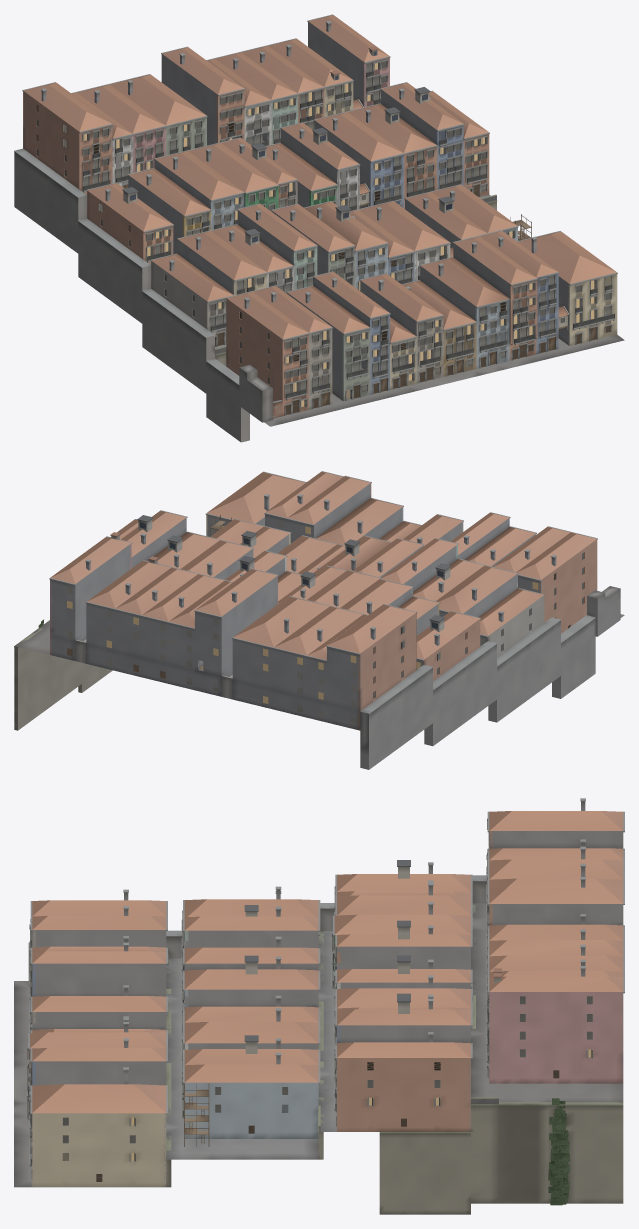
The model's file is stairs_mid.glb.
3 views of the same model, one above another, from view 1: azimuth 30°, elevation 25°; view 2: azimuth 150°, elevation 25°; view 3: azimuth 270°, elevation 25° (orthographic). The views are drawn at different scales.
Parts seen in each view (by area): view 1: stairs_7_1, stairs_4_1, stairs_4_11, stairs_4_8, stairs_7_5, stairs_4_9, stairs_rampart_2, stairs_rampart_4, stairs_rampart_3, stairs_6_1, stairs_6_9, stairs_4_3 (+36 smaller); view 2: stairs_7_1, stairs_7_5, stairs_7_10, stairs_4_1, stairs_7_4, stairs_rampart_4, stairs_rampart_2, stairs_rampart_3, stairs_7_3, stairs_east_8, stairs_7_9, stairs_7_8 (+37 smaller); view 3: stairs_7_10, stairs_4_11, stairs_east_8, stairs_6_12, stairs_5_10, stairs_east_6, stairs_4_4, ground_stairs_5, ground_stairs_7, stairs_5_6, stairs_7_1, stairs_7_5 (+31 smaller).
Boxes of the visible parts, left/top/right/bottom form: stairs_7_1: left=22, top=82, right=113, bottom=194; stairs_4_1: left=225, top=291, right=309, bottom=415; stairs_4_11: left=517, top=231, right=617, bottom=346; stairs_4_8: left=419, top=257, right=510, bottom=368; stairs_7_5: left=161, top=46, right=245, bottom=145; stairs_4_9: left=452, top=235, right=537, bottom=360; stairs_rampart_2: left=142, top=288, right=215, bottom=393; stairs_rampart_4: left=14, top=148, right=87, bottom=253; stairs_rampart_3: left=78, top=218, right=151, bottom=323; stairs_6_1: left=86, top=182, right=173, bottom=264; stairs_6_9: left=313, top=111, right=404, bottom=208; stairs_4_3: left=286, top=285, right=370, bottom=401; stairs_7_1: left=326, top=604, right=417, bottom=730; stairs_7_5: left=194, top=568, right=278, bottom=696; stairs_7_10: left=49, top=532, right=132, bottom=660; stairs_4_1: left=516, top=532, right=597, bottom=633; stairs_7_4: left=232, top=596, right=330, bottom=709; stairs_rampart_4: left=360, top=664, right=433, bottom=769; stairs_rampart_2: left=488, top=617, right=560, bottom=722; stairs_rampart_3: left=424, top=641, right=497, bottom=746; stairs_7_3: left=273, top=606, right=363, bottom=717; stairs_east_8: left=14, top=620, right=81, bottom=730; stairs_7_9: left=85, top=556, right=171, bottom=670; stairs_7_8: left=114, top=567, right=198, bottom=677; stairs_7_10: left=486, top=966, right=624, bottom=1083; stairs_4_11: left=29, top=1067, right=167, bottom=1186; stairs_east_8: left=471, top=1102, right=623, bottom=1203; stairs_6_12: left=334, top=1032, right=472, bottom=1131; stairs_5_10: left=181, top=1052, right=320, bottom=1138; stairs_east_6: left=379, top=1132, right=470, bottom=1214; stairs_4_4: left=29, top=942, right=167, bottom=1032; ground_stairs_5: left=166, top=958, right=318, bottom=1159; ground_stairs_7: left=471, top=903, right=623, bottom=1102; stairs_5_6: left=181, top=955, right=320, bottom=1041; stairs_7_1: left=486, top=798, right=624, bottom=897; stairs_7_5: left=486, top=877, right=624, bottom=973.
Bounding box in the file's own units: 80.69 × 42.59 × 100.
